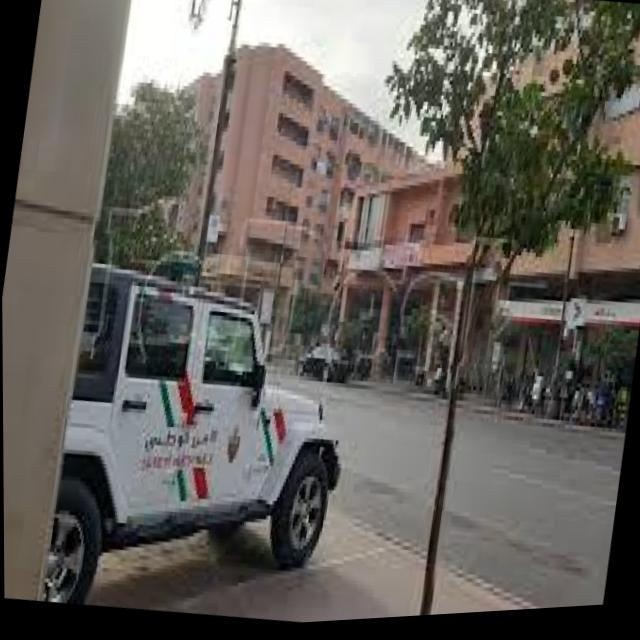Police car: (43, 225, 371, 635)
